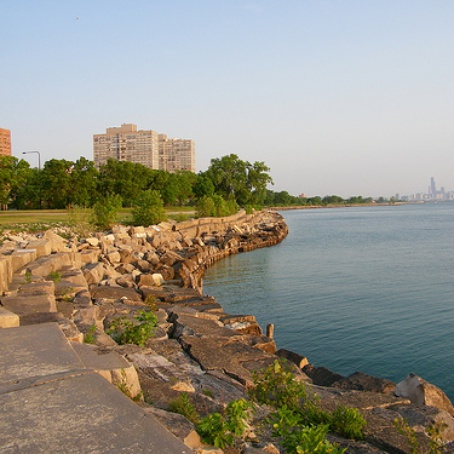building: (90, 122, 202, 176)
rocks: (1, 215, 270, 454)
sea: (239, 199, 454, 390)
sky: (2, 3, 447, 176)
vegetation: (1, 162, 302, 226)
